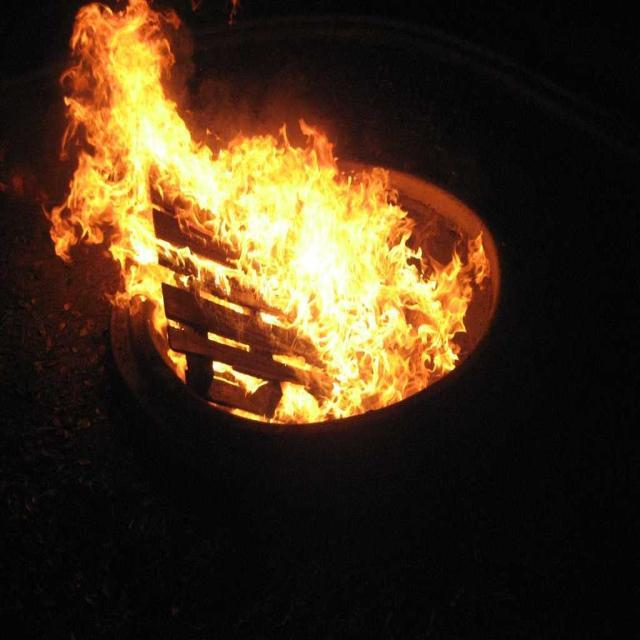Fire: (280, 183, 388, 342), (86, 17, 168, 154), (164, 160, 255, 195)
